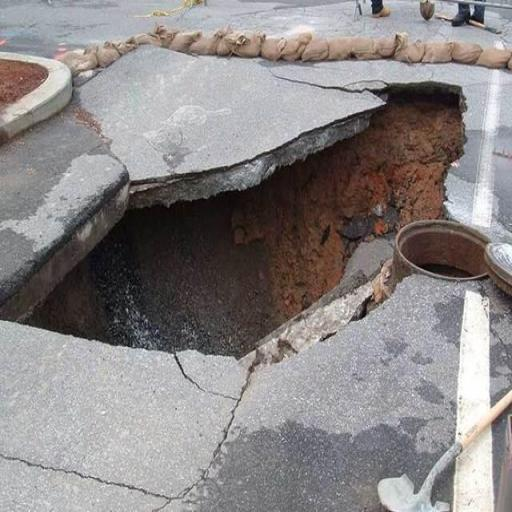Concentric_Crack: (0, 82, 465, 372)
